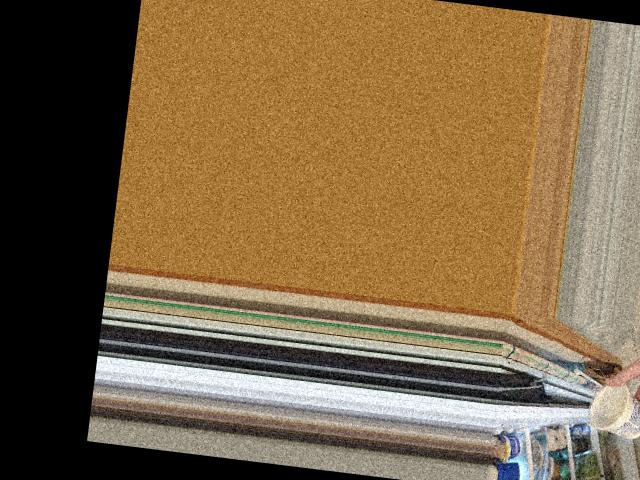cotage: (587, 383, 640, 437)
